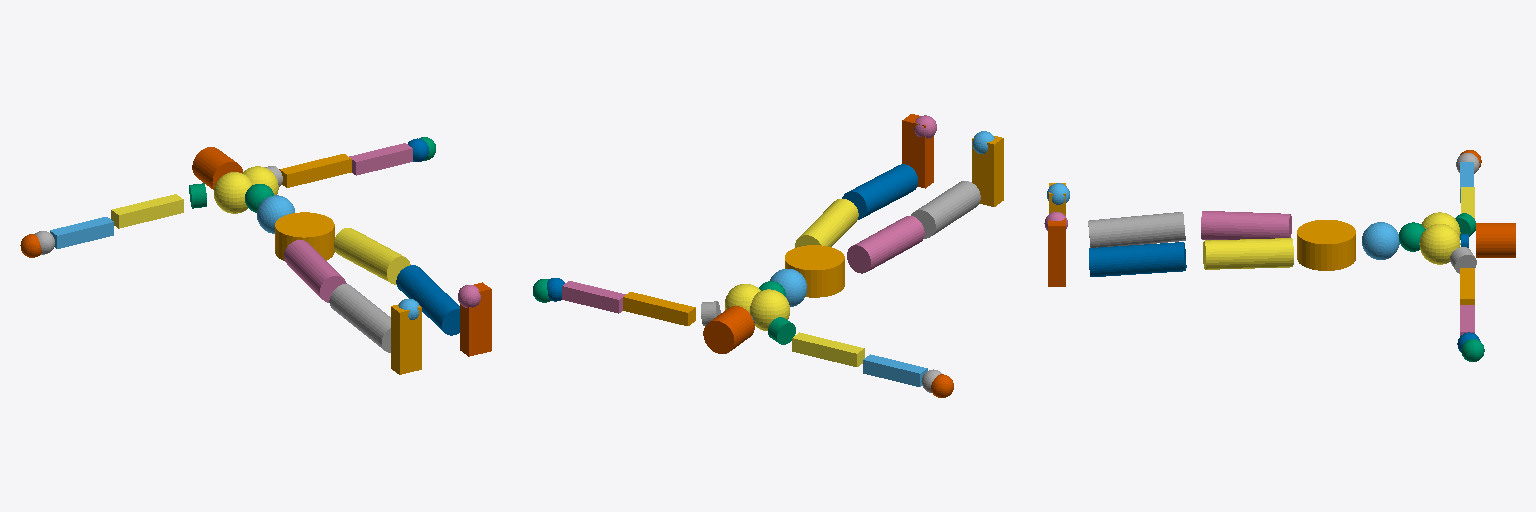
--- Facts derived from the render (not from the file) ---
Views: 3 orthographic renders of the robot side by side, from view 1: azimuth 30°, elevation 25°; view 2: azimuth 150°, elevation 25°; view 3: azimuth 270°, elevation 25°.
Robot: amass_male — 70 links, 69 joints (69 revolute); root link 00_root_Y; default pose: every joint at zero.
Visible links, largest first — view 1: 04_lknee_Y, 01_lhip_Y, 05_rknee_Y, 00_root_Y, 02_rhip_Y, 08_rankle_Y, 07_lankle_Y, 09_chest_Y, 17_rshoulder_Y, 16_lshoulder_Y, 18_lelbow_Y, 19_relbow_Y (+2 smaller); view 2: 02_rhip_Y, 00_root_Y, 04_lknee_Y, 05_rknee_Y, 09_chest_Y, 08_rankle_Y, 15_upperneck_Y, 01_lhip_Y, 07_lankle_Y, 16_lshoulder_Y, 17_rshoulder_Y, 18_lelbow_Y (+3 smaller); view 3: 04_lknee_Y, 05_rknee_Y, 00_root_Y, 01_lhip_Y, 02_rhip_Y, 09_chest_Y, 15_upperneck_Y, 07_lankle_Y, 03_lowerback_Y, 06_upperback_Y, 16_lshoulder_Y.
Boxes of the visible links, x1=… form: 04_lknee_Y: x1=396, y1=265, x2=459, y2=335; 01_lhip_Y: x1=334, y1=228, x2=410, y2=284; 05_rknee_Y: x1=329, y1=284, x2=390, y2=352; 00_root_Y: x1=275, y1=212, x2=334, y2=260; 02_rhip_Y: x1=284, y1=240, x2=346, y2=302; 08_rankle_Y: x1=391, y1=304, x2=421, y2=374; 07_lankle_Y: x1=460, y1=282, x2=491, y2=356; 09_chest_Y: x1=214, y1=166, x2=278, y2=213; 17_rshoulder_Y: x1=111, y1=194, x2=183, y2=228; 16_lshoulder_Y: x1=279, y1=154, x2=351, y2=187; 18_lelbow_Y: x1=349, y1=143, x2=412, y2=175; 19_relbow_Y: x1=50, y1=217, x2=113, y2=248; 02_rhip_Y: x1=847, y1=216, x2=924, y2=273; 00_root_Y: x1=785, y1=245, x2=844, y2=297; 04_lknee_Y: x1=842, y1=164, x2=917, y2=219; 05_rknee_Y: x1=911, y1=181, x2=980, y2=238; 09_chest_Y: x1=725, y1=284, x2=789, y2=330; 08_rankle_Y: x1=972, y1=136, x2=1003, y2=206; 15_upperneck_Y: x1=703, y1=306, x2=754, y2=353; 01_lhip_Y: x1=795, y1=199, x2=858, y2=247; 07_lankle_Y: x1=902, y1=114, x2=933, y2=188; 16_lshoulder_Y: x1=623, y1=292, x2=695, y2=325; 17_rshoulder_Y: x1=792, y1=332, x2=864, y2=366; 18_lelbow_Y: x1=562, y1=281, x2=625, y2=313; 04_lknee_Y: x1=1089, y1=242, x2=1186, y2=276; 05_rknee_Y: x1=1088, y1=212, x2=1185, y2=247; 00_root_Y: x1=1297, y1=220, x2=1355, y2=270; 01_lhip_Y: x1=1203, y1=238, x2=1293, y2=269; 02_rhip_Y: x1=1201, y1=211, x2=1291, y2=239; 09_chest_Y: x1=1419, y1=212, x2=1460, y2=264; 15_upperneck_Y: x1=1476, y1=223, x2=1515, y2=257; 07_lankle_Y: x1=1048, y1=215, x2=1065, y2=286; 03_lowerback_Y: x1=1362, y1=222, x2=1399, y2=259; 06_upperback_Y: x1=1399, y1=222, x2=1425, y2=251; 16_lshoulder_Y: x1=1460, y1=268, x2=1474, y2=304.
Bounding box of the posed robot: 1.6 × 1.6 × 0.2569 m (x, y, z).
Geometry: primitives only (box / cylinder / sphere), no mesh files.

URDF robot description (amass_male):
<?xml version="1.0"?>
  <!-- Copyright (c) Facebook, Inc. and its affiliates. -->
  <!-- Adapted for compatibility with lab4d -->
  <robot name="amass_male">

    <material name="link_mtl1">
      <color rgba="0.33333333 0.62745098 0.67843137 1."/>
    </material>
    <material name="link_mtl2">
      <color rgba="0.33333333 0.62745098 0.67843137 1."/>
    </material>

    <link name="00_root_Y">
      <inertial>
        <origin xyz="0 0 0" rpy="0 0 0"/>
        <mass value="5.0"/>
        <inertia ixx="0.001" ixy="0" ixz="0" iyy="0.001" iyz="0" izz="0.001"/>
      </inertial>
      <collision name="collision_0_root_Y">
        <origin xyz="0.00354 -0.01 -0.03107" rpy="0 0 0"/>
        <geometry>
          <cylinder radius="0.1" length="0.1"/>
        </geometry>
      </collision>
      <!--
      <collision name="collision_1_root_Y">
        <origin xyz="-0.05769 -0.02577 -0.0174" rpy="0 0 0"/>
        <geometry>
          <sphere radius="0.075"/>
        </geometry>
      </collision>
      <collision name="collision_2_root_Y">
        <origin xyz="0.06735 -0.02415 -0.0174" rpy="0 0 0"/>
        <geometry>
          <sphere radius="0.075"/>
        </geometry>
      </collision>
      -->
      <visual name="collision_0_root_Y">
        <origin xyz="0.00354 -0.01 -0.03107" rpy="0 0 0"/>
        <geometry>
          <cylinder radius="0.1" length="0.1"/>
        </geometry>
      </visual>
      <!--
      <visual name="collision_1_root_Y">
        <origin xyz="-0.05769 -0.02577 -0.0174" rpy="0 0 0"/>
        <geometry>
          <sphere radius="0.075"/>
        </geometry>
      </visual>
      <visual name="collision_2_root_Y">
        <origin xyz="0.06735 -0.02415 -0.0174" rpy="0 0 0"/>
        <geometry>
          <sphere radius="0.075"/>
        </geometry>
      </visual>
      -->
    </link>

    <link name="01_lhip_R">
      <inertial>
        <origin xyz="0 0 0" rpy="0 0 0"/>
        <mass value="1.0"/>
        <inertia ixx="0.001" ixy="0" ixz="0" iyy="0.001" iyz="0" izz="0.001"/>
      </inertial>
      <collision name="collision_0_lhip_R">
        <geometry>
          <sphere radius="0.01"/>
        </geometry>
        <origin xyz="0 0 0" rpy="0 0 0"/>
      </collision>
    </link>

    <link name="01_lhip_P">
      <inertial>
        <origin xyz="0 0 0" rpy="0 0 0"/>
        <mass value="1.0"/>
        <inertia ixx="0.001" ixy="0" ixz="0" iyy="0.001" iyz="0" izz="0.001"/>
      </inertial>
      <collision name="collision_0_lhip_P">
        <geometry>
          <sphere radius="0.01"/>
        </geometry>
        <origin xyz="0 0 0" rpy="0 0 0"/>
      </collision>
    </link>

    <link name="01_lhip_Y">
      <inertial>
        <origin xyz="0.02173 -0.19323 0.00402" rpy="0 0 0"/>
        <mass value="5.0"/>
        <inertia ixx="0.001" ixy="0" ixz="0" iyy="0.001" iyz="0" izz="0.001"/>
      </inertial>
      <collision name="collision_0_lhip_Y">
        <origin xyz="0.02173 -0.19323 0.00402" rpy="1.55 0.11194 0.10964"/>
        <geometry>
          <cylinder radius="0.05" length="0.3"/>
        </geometry>
      </collision>
      <visual name="collision_0_lhip_Y">
        <origin xyz="0.02173 -0.19323 0.00402" rpy="1.55 0.11194 0.10964"/>
        <geometry>
          <cylinder radius="0.05" length="0.3"/>
        </geometry>
      </visual>
      <!--
      <visual name="joint">
        <origin xyz="0 0 0" rpy="0 0 0"/>
        <geometry>
          <sphere radius="0.04"/>
        </geometry>
      </visual>
      -->
    </link>

    <link name="02_rhip_R">
      <inertial>
        <origin xyz="0 0 0" rpy="0 0 0"/>
        <mass value="1.0"/>
        <inertia ixx="0.001" ixy="0" ixz="0" iyy="0.001" iyz="0" izz="0.001"/>
      </inertial>
      <collision name="collision_0_rhip_R">
        <geometry>
          <sphere radius="0.01"/>
        </geometry>
        <origin xyz="0 0 0" rpy="0 0 0"/>
      </collision>
    </link>

    <link name="02_rhip_P">
      <inertial>
        <origin xyz="0 0 0" rpy="0 0 0"/>
        <mass value="1.0"/>
        <inertia ixx="0.001" ixy="0" ixz="0" iyy="0.001" iyz="0" izz="0.001"/>
      </inertial>
      <collision name="collision_0_rhip_P">
        <geometry>
          <sphere radius="0.01"/>
        </geometry>
        <origin xyz="0 0 0" rpy="0 0 0"/>
      </collision>
    </link>

    <link name="02_rhip_Y">
      <inertial>
        <origin xyz="-0.02163 -0.19184 -0.00242" rpy="0 0 0"/>
        <mass value="5.0"/>
        <inertia ixx="0.001" ixy="0" ixz="0" iyy="0.001" iyz="0" izz="0.001"/>
      </inertial>
      <collision name="collision_0_rhip_Y">
        <origin xyz="-0.02163 -0.19184 -0.00242" rpy="1.58342 -0.11226 -0.11368"/>
        <geometry>
          <cylinder radius="0.05" length="0.3"/>
        </geometry>
      </collision>
      <visual name="collision_0_rhip_Y">
        <origin xyz="-0.02163 -0.19184 -0.00242" rpy="1.58342 -0.11226 -0.11368"/>
        <geometry>
          <cylinder radius="0.05" length="0.3"/>
        </geometry>
      </visual>
      <!--
      <visual name="joint">
        <origin xyz="0 0 0" rpy="0 0 0"/>
        <geometry>
          <sphere radius="0.04"/>
        </geometry>
      </visual>
      -->
    </link>

    <link name="03_lowerback_R">
      <inertial>
        <origin xyz="0 0 0" rpy="0 0 0"/>
        <mass value="1.0"/>
        <inertia ixx="0.001" ixy="0" ixz="0" iyy="0.001" iyz="0" izz="0.001"/>
      </inertial>
      <collision name="collision_0_lowerback_R">
        <geometry>
          <sphere radius="0.01"/>
        </geometry>
        <origin xyz="0 0 0" rpy="0 0 0"/>
      </collision>
    </link>

    <link name="03_lowerback_P">
      <inertial>
        <origin xyz="0 0 0" rpy="0 0 0"/>
        <mass value="1.0"/>
        <inertia ixx="0.001" ixy="0" ixz="0" iyy="0.001" iyz="0" izz="0.001"/>
      </inertial>
      <collision name="collision_0_lowerback_P">
        <geometry>
          <sphere radius="0.01"/>
        </geometry>
        <origin xyz="0 0 0" rpy="0 0 0"/>
      </collision>
    </link>

    <link name="03_lowerback_Y">
      <inertial>
        <origin xyz="0.0 0.05 0.013" rpy="0 0 0"/>
        <mass value="5.0"/>
        <inertia ixx="0.001" ixy="0" ixz="0" iyy="0.001" iyz="0" izz="0.001"/>
      </inertial>
      <collision name="collision_0_lowerback_Y">
        <origin xyz="0.0 0.05 0.013" rpy="0 1.5708 0"/>
        <geometry>
          <sphere radius="0.065"/>
        </geometry>
      </collision>
      <visual name="collision_0_lowerback_Y">
        <origin xyz="0.0 0.05 0.013" rpy="0 1.5708 0"/>
        <geometry>
          <sphere radius="0.065"/>
        </geometry>
      </visual>
      <!--
      <visual name="joint">
        <origin xyz="0 0 0" rpy="0 0 0"/>
        <geometry>
          <sphere radius="0.03"/>
        </geometry>
      </visual>
      -->
    </link>

    <link name="04_lknee_R">
      <inertial>
        <origin xyz="0 0 0" rpy="0 0 0"/>
        <mass value="1.0"/>
        <inertia ixx="0.001" ixy="0" ixz="0" iyy="0.001" iyz="0" izz="0.001"/>
      </inertial>
      <collision name="collision_0_lknee_R">
        <geometry>
          <sphere radius="0.01"/>
        </geometry>
        <origin xyz="0 0 0" rpy="0 0 0"/>
      </collision>
    </link>

    <link name="04_lknee_P">
      <inertial>
        <origin xyz="0 0 0" rpy="0 0 0"/>
        <mass value="1.0"/>
        <inertia ixx="0.001" ixy="0" ixz="0" iyy="0.001" iyz="0" izz="0.001"/>
      </inertial>
      <collision name="collision_0_lknee_P">
        <geometry>
          <sphere radius="0.01"/>
        </geometry>
        <origin xyz="0 0 0" rpy="0 0 0"/>
      </collision>
    </link>

    <link name="04_lknee_Y">
      <inertial>
        <origin xyz="-0.00739 -0.21344 -0.01871" rpy="0 0 0"/>
        <mass value="3.0"/>
        <inertia ixx="0.001" ixy="0" ixz="0" iyy="0.001" iyz="0" izz="0.001"/>
      </inertial>
      <collision name="collision_0_lknee_Y">
        <origin xyz="-0.00739 -0.21344 -0.01871" rpy="1.65825 -0.0345 -0.03766"/>
        <geometry>
          <cylinder radius="0.05" length="0.325"/>
        </geometry>
      </collision>
      <visual name="collision_0_lknee_Y">
        <origin xyz="-0.00739 -0.21344 -0.01871" rpy="1.65825 -0.0345 -0.03766"/>
        <geometry>
          <cylinder radius="0.05" length="0.325"/>
        </geometry>
      </visual>
      <!--
      <visual name="joint">
        <origin xyz="0 0 0" rpy="0 0 0"/>
        <geometry>
          <sphere radius="0.04"/>
        </geometry>
      </visual>
      -->
    </link>

    <link name="05_rknee_R">
      <inertial>
        <origin xyz="0 0 0" rpy="0 0 0"/>
        <mass value="1.0"/>
        <inertia ixx="0.001" ixy="0" ixz="0" iyy="0.001" iyz="0" izz="0.001"/>
      </inertial>
      <collision name="collision_0_rknee_R">
        <geometry>
          <sphere radius="0.01"/>
        </geometry>
        <origin xyz="0 0 0" rpy="0 0 0"/>
      </collision>
    </link>

    <link name="05_rknee_P">
      <inertial>
        <origin xyz="0 0 0" rpy="0 0 0"/>
        <mass value="1.0"/>
        <inertia ixx="0.001" ixy="0" ixz="0" iyy="0.001" iyz="0" izz="0.001"/>
      </inertial>
      <collision name="collision_0_rknee_P">
        <geometry>
          <sphere radius="0.01"/>
        </geometry>
        <origin xyz="0 0 0" rpy="0 0 0"/>
      </collision>
    </link>

    <link name="05_rknee_Y">
      <inertial>
        <origin xyz="0.00953 -0.21002 -0.01728" rpy="0 0 0"/>
        <mass value="3.0"/>
        <inertia ixx="0.001" ixy="0" ixz="0" iyy="0.001" iyz="0" izz="0.001"/>
      </inertial>
      <collision name="collision_0_rknee_Y">
        <origin xyz="0.00953 -0.21002 -0.01728" rpy="1.65289 0.04518 0.04905"/>
        <geometry>
          <cylinder radius="0.05" length="0.325"/>
        </geometry>
      </collision>
      <visual name="collision_0_rknee_Y">
        <origin xyz="0.00953 -0.21002 -0.01728" rpy="1.65289 0.04518 0.04905"/>
        <geometry>
          <cylinder radius="0.05" length="0.325"/>
        </geometry>
      </visual>
      <!--
      <visual name="joint">
        <origin xyz="0 0 0" rpy="0 0 0"/>
        <geometry>
          <sphere radius="0.04"/>
        </geometry>
      </visual>
      -->
    </link>

    <link name="06_upperback_R">
      <inertial>
        <origin xyz="0 0 0" rpy="0 0 0"/>
        <mass value="1.0"/>
        <inertia ixx="0.001" ixy="0" ixz="0" iyy="0.001" iyz="0" izz="0.001"/>
      </inertial>
      <collision name="collision_0_upperback_R">
        <geometry>
          <sphere radius="0.01"/>
        </geometry>
        <origin xyz="0 0 0" rpy="0 0 0"/>
      </collision>
    </link>

    <link name="06_upperback_P">
      <inertial>
        <origin xyz="0 0 0" rpy="0 0 0"/>
        <mass value="1.0"/>
        <inertia ixx="0.001" ixy="0" ixz="0" iyy="0.001" iyz="0" izz="0.001"/>
      </inertial>
      <collision name="collision_0_upperback_P">
        <geometry>
          <sphere radius="0.01"/>
        </geometry>
        <origin xyz="0 0 0" rpy="0 0 0"/>
      </collision>
    </link>

    <link name="06_upperback_Y">
      <inertial>
        <origin xyz="0.0 0.02246 0.00143" rpy="0 0 0"/>
        <mass value="5.0"/>
        <inertia ixx="0.001" ixy="0" ixz="0" iyy="0.001" iyz="0" izz="0.001"/>
      </inertial>
      <collision name="collision_0_upperback_Y">
        <origin xyz="0.0 0.02246 0.00143" rpy="0 1.5708 0"/>
        <geometry>
          <sphere radius="0.05" length="0.125"/>
        </geometry>
      </collision>
      <visual name="collision_0_upperback_Y">
        <origin xyz="0.0 0.02246 0.00143" rpy="0 1.5708 0"/>
        <geometry>
          <sphere radius="0.05" length="0.125"/>
        </geometry>
      </visual>
      <!--
      <visual name="joint">
        <origin xyz="0 0 0" rpy="0 0 0"/>
        <geometry>
          <sphere radius="0.03"/>
        </geometry>
      </visual>
      -->
    </link>

    <link name="07_lankle_R">
      <inertial>
        <origin xyz="0 0 0" rpy="0 0 0"/>
        <mass value="1.0"/>
        <inertia ixx="0.001" ixy="0" ixz="0" iyy="0.001" iyz="0" izz="0.001"/>
      </inertial>
      <collision name="collision_0_lankle_R">
        <geometry>
          <sphere radius="0.01"/>
        </geometry>
        <origin xyz="0 0 0" rpy="0 0 0"/>
      </collision>
    </link>

    <link name="07_lankle_P">
      <inertial>
        <origin xyz="0 0 0" rpy="0 0 0"/>
        <mass value="1.0"/>
        <inertia ixx="0.001" ixy="0" ixz="0" iyy="0.001" iyz="0" izz="0.001"/>
      </inertial>
      <collision name="collision_0_lankle_P">
        <geometry>
          <sphere radius="0.01"/>
        </geometry>
        <origin xyz="0 0 0" rpy="0 0 0"/>
      </collision>
    </link>

    <link name="07_lankle_Y">
      <inertial>
        <origin xyz="0.01719 -0.06032 0.05617" rpy="0 0 0"/>
        <mass value="1.0"/>
        <inertia ixx="0.001" ixy="0" ixz="0" iyy="0.001" iyz="0" izz="0.001"/>
      </inertial>
      <collision name="collision_0_lankle_Y">
        <origin xyz="0.01719 -0.06032 0.05617" rpy="0 0 0"/>
        <geometry>
          <box size="0.0875 0.06 0.23"/>
        </geometry>
      </collision>
      <visual name="collision_0_lankle_Y">
        <origin xyz="0.01719 -0.06032 0.05617" rpy="0 0 0"/>
        <geometry>
          <box size="0.0875 0.06 0.23"/>
        </geometry>
      </visual>
      <!--
      <visual name="joint">
        <origin xyz="0 0 0" rpy="0 0 0"/>
        <geometry>
          <sphere radius="0.04"/>
        </geometry>
      </visual>
      -->
    </link>

    <link name="08_rankle_R">
      <inertial>
        <origin xyz="0 0 0" rpy="0 0 0"/>
        <mass value="1.0"/>
        <inertia ixx="0.001" ixy="0" ixz="0" iyy="0.001" iyz="0" izz="0.001"/>
      </inertial>
      <collision name="collision_rankle_R">
        <geometry>
          <sphere radius="0.01"/>
        </geometry>
        <origin xyz="0 0 0" rpy="0 0 0"/>
      </collision>
    </link>

    <link name="08_rankle_P">
      <inertial>
        <origin xyz="0 0 0" rpy="0 0 0"/>
        <mass value="1.0"/>
        <inertia ixx="0.001" ixy="0" ixz="0" iyy="0.001" iyz="0" izz="0.001"/>
      </inertial>
      <collision name="collision_rankle_P">
        <geometry>
          <sphere radius="0.01"/>
        </geometry>
        <origin xyz="0 0 0" rpy="0 0 0"/>
      </collision>
    </link>

    <link name="08_rankle_Y">
      <inertial>
        <origin xyz="-0.01719 -0.06032 0.05617" rpy="0 0 0"/>
        <mass value="1.0"/>
        <inertia ixx="0.001" ixy="0" ixz="0" iyy="0.001" iyz="0" izz="0.001"/>
      </inertial>
      <collision name="collision_0_rankle_Y">
        <origin xyz="-0.01719 -0.06032 0.05617" rpy="0 0 0"/>
        <geometry>
          <box size="0.0875 0.06 0.23"/>
        </geometry>
      </collision>
      <visual name="collision_0_rankle_Y">
        <origin xyz="-0.01719 -0.06032 0.05617" rpy="0 0 0"/>
        <geometry>
          <box size="0.0875 0.06 0.23"/>
        </geometry>
      </visual>
      <!--
      <visual name="joint">
        <origin xyz="0 0 0" rpy="0 0 0"/>
        <geometry>
          <sphere radius="0.04"/>
        </geometry>
      </visual>
      -->
    </link>

    <link name="09_chest_R">
      <inertial>
        <origin xyz="0 0 0" rpy="0 0 0"/>
        <mass value="1.0"/>
        <inertia ixx="0.001" ixy="0" ixz="0" iyy="0.001" iyz="0" izz="0.001"/>
      </inertial>
      <collision name="collision_0_chest_R">
        <geometry>
          <sphere radius="0.01"/>
        </geometry>
        <origin xyz="0 0 0" rpy="0 0 0"/>
      </collision>
    </link>

    <link name="09_chest_P">
      <inertial>
        <origin xyz="0 0 0" rpy="0 0 0"/>
        <mass value="1.0"/>
        <inertia ixx="0.001" ixy="0" ixz="0" iyy="0.001" iyz="0" izz="0.001"/>
      </inertial>
      <collision name="collision_0_chest_P">
        <geometry>
          <sphere radius="0.01"/>
        </geometry>
        <origin xyz="0 0 0" rpy="0 0 0"/>
      </collision>
    </link>

    <link name="09_chest_Y">
      <inertial>
        <origin xyz="0.0 0.057 -0.00687" rpy="0 0 0"/>
        <mass value="8.0"/>
        <inertia ixx="0.001" ixy="0" ixz="0" iyy="0.001" iyz="0" izz="0.001"/>
      </inertial>
      <collision name="collision_0_chest_Y">
        <origin xyz="-0.045 0.057 -0.00687" rpy="0 0 0"/>
        <geometry>
          <sphere radius="0.07"/>
        </geometry>
      </collision>
      <collision name="collision_1_chest_Y">
        <origin xyz="0.045 0.057 -0.00687" rpy="0 0 0"/>
        <geometry>
          <sphere radius="0.07"/>
        </geometry>
      </collision>
      <visual name="collision_0_chest_Y">
        <origin xyz="-0.045 0.057 -0.00687" rpy="0 0 0"/>
        <geometry>
          <sphere radius="0.07"/>
        </geometry>
      </visual>
      <visual name="collision_1_chest_Y">
        <origin xyz="0.045 0.057 -0.00687" rpy="0 0 0"/>
        <geometry>
          <sphere radius="0.07"/>
        </geometry>
      </visual>
      <!--
      <visual name="joint">
        <origin xyz="0 0 0" rpy="0 0 0"/>
        <geometry>
          <sphere radius="0.03"/>
        </geometry>
      </visual>
      -->
    </link>

    <link name="10_lfoot_R">
      <inertial>
        <origin xyz="0 0 0" rpy="0 0 0"/>
        <mass value="1.0"/>
        <inertia ixx="0.001" ixy="0" ixz="0" iyy="0.001" iyz="0" izz="0.001"/>
      </inertial>
      <collision name="collision_0_lfoot_R">
        <geometry>
          <sphere radius="0.01"/>
        </geometry>
        <origin xyz="0 0 0" rpy="0 0 0"/>
      </collision>
    </link>

    <link name="10_lfoot_P">
      <inertial>
        <origin xyz="0 0 0" rpy="0 0 0"/>
        <mass value="1.0"/>
        <inertia ixx="0.001" ixy="0" ixz="0" iyy="0.001" iyz="0" izz="0.001"/>
      </inertial>
      <collision name="collision_0_lfoot_P">
        <geometry>
          <sphere radius="0.01"/>
        </geometry>
        <origin xyz="0 0 0" rpy="0 0 0"/>
      </collision>
    </link>

    <link name="10_lfoot_Y">
      <inertial>
        <origin xyz="0 0 0.02228" rpy="0 0 0"/>
        <mass value="0.5"/>
        <inertia ixx="0.001" ixy="0" ixz="0" iyy="0.001" iyz="0" izz="0.001"/>
      </inertial>
      <collision name="collision_0_lfoot_Y">
        <origin xyz="0 0 0.02228" rpy="0 0 0"/>
        <geometry>
          <sphere radius="0.04"/>
        </geometry>
      </collision>
      <visual name="collision_0_lfoot_Y">
        <origin xyz="0 0 0.02228" rpy="0 0 0"/>
        <geometry>
          <sphere radius="0.04"/>
        </geometry>
      </visual>
      <!--
      <visual name="joint">
        <origin xyz="0 0 0" rpy="0 0 0"/>
        <geometry>
          <sphere radius="0.025"/>
        </geometry>
      </visual>
      -->
    </link>

    <link name="11_rfoot_R">
      <inertial>
        <origin xyz="0 0 0" rpy="0 0 0"/>
        <mass value="1.0"/>
        <inertia ixx="0.001" ixy="0" ixz="0" iyy="0.001" iyz="0" izz="0.001"/>
      </inertial>
      <collision name="collision_0_rfoot_R">
        <geometry>
          <sphere radius="0.01"/>
        </geometry>
        <origin xyz="0 0 0" rpy="0 0 0"/>
      </collision>
    </link>

    <link name="11_rfoot_P">
      <inertial>
        <origin xyz="0 0 0" rpy="0 0 0"/>
        <mass value="1.0"/>
        <inertia ixx="0.001" ixy="0" ixz="0" iyy="0.001" iyz="0" izz="0.001"/>
      </inertial>
      <collision name="collision_0_rfoot_P">
        <geometry>
          <sphere radius="0.01"/>
        </geometry>
        <origin xyz="0 0 0" rpy="0 0 0"/>
      </collision>
    </link>

    <link name="11_rfoot_Y">
      <inertial>
        <origin xyz="0 0 0.0239" rpy="0 0 0"/>
        <mass value="0.5"/>
        <inertia ixx="0.001" ixy="0" ixz="0" iyy="0.001" iyz="0" izz="0.001"/>
      </inertial>
      <collision name="collision_0_rfoot_Y">
        <origin xyz="0 0 0.0239" rpy="0 0 0"/>
        <geometry>
          <sphere radius="0.04"/>
        </geometry>
      </collision>
      <visual name="collision_0_rfoot_Y">
        <origin xyz="0 0 0.0239" rpy="0 0 0"/>
        <geometry>
          <sphere radius="0.04"/>
        </geometry>
      </visual>
      <!--
      <visual name="joint">
        <origin xyz="0 0 0" rpy="0 0 0"/>
        <geometry>
          <sphere radius="0.025"/>
        </geometry>
      </visual>
      -->
    </link>

    <link name="12_lowerneck_R">
      <inertial>
        <origin xyz="0 0 0" rpy="0 0 0"/>
        <mass value="1.0"/>
        <inertia ixx="0.001" ixy="0" ixz="0" iyy="0.001" iyz="0" izz="0.001"/>
      </inertial>
      <collision name="collision_0_lowerneck_R">
        <geometry>
          <sphere radius="0.01"/>
        </geometry>
        <origin xyz="0 0 0" rpy="0 0 0"/>
      </collision>
    </link>

    <link name="12_lowerneck_P">
      <inertial>
        <origin xyz="0 0 0" rpy="0 0 0"/>
        <mass value="1.0"/>
        <inertia ixx="0.001" ixy="0" ixz="0" iyy="0.001" iyz="0" izz="0.001"/>
      </inertial>
      <collision name="collision_0_lowerneck_P">
        <geometry>
          <sphere radius="0.01"/>
        </geometry>
        <origin xyz="0 0 0" rpy="0 0 0"/>
      </collision>
    </link>

    <link name="12_lowerneck_Y">
      <inertial>
        <origin xyz="0.0 -0.01296 0.01" rpy="0 0 0"/>
        <mass value="0.5"/>
        <inertia ixx="0.001" ixy="0" ixz="0" iyy="0.001" iyz="0" izz="0.001"/>
      </inertial>
      <collision name="collision_0_lowerneck_Y">
        <origin xyz="0.0 -0.01296 0.01" rpy="1.5708 0 0"/>
        <geometry>
          <cylinder radius="0.030" length="0.0273"/>
        </geometry>
      </collision>
      <visual name="collision_0_lowerneck_Y">
        <origin xyz="0.0 -0.01296 0.01" rpy="1.5708 0 0"/>
        <geometry>
          <cylinder radius="0.030" length="0.0273"/>
        </geometry>
      </visual>
    </link>

    <link name="13_lclavicle_R">
      <inertial>
        <origin xyz="0 0 0" rpy="0 0 0"/>
        <mass value="1.0"/>
        <inertia ixx="0.001" ixy="0" ixz="0" iyy="0.001" iyz="0" izz="0.001"/>
      </inertial>
      <collision name="collision_0_lclavicle_R">
        <geometry>
          <sphere radius="0.01"/>
        </geometry>
        <origin xyz="0 0 0" rpy="0 0 0"/>
      </collision>
    </link>

    <link name="13_lclavicle_P">
      <inertial>
        <origin xyz="0 0 0" rpy="0 0 0"/>
        <mass value="1.0"/>
        <inertia ixx="0.001" ixy="0" ixz="0" iyy="0.001" iyz="0" izz="0.001"/>
      </inertial>
      <collision name="collision_0_lclavicle_P">
        <geometry>
          <sphere radius="0.01"/>
        </geometry>
        <origin xyz="0 0 0" rpy="0 0 0"/>
      </collision>
    </link>

    <link name="13_lclavicle_Y">
      <inertial>
        <origin xyz="0.06146 0.0226 -0.00952" rpy="0 0 0"/>
        <mass value="1.0"/>
        <inertia ixx="0.001" ixy="0" ixz="0" iyy="0.001" iyz="0" izz="0.001"/>
      </inertial>
      <collision name="collision_0_lclavicle_Y">
        <origin xyz="0.06146 0.0226 -0.00952" rpy="1.17204 1.95049 1.5502"/>
        <geometry>
          <cylinder radius="0.04" length="0.05"/>
        </geometry>
      </collision>
      <visual name="collision_0_lclavicle_Y">
        <origin xyz="0.06146 0.0226 -0.00952" rpy="1.17204 1.95049 1.5502"/>
        <geometry>
          <cylinder radius="0.04" length="0.05"/>
        </geometry>
      </visual>
      <!--
      <visual name="joint">
        <origin xyz="0 0 0" rpy="0 0 0"/>
        <geometry>
          <sphere radius="0.025"/>
        </geometry>
      </visual>
      -->
    </link>

    <link name="14_rclavicle_R">
      <inertial>
        <origin xyz="0 0 0" rpy="0 0 0"/>
        <mass value="1.0"/>
        <inertia ixx="0.001" ixy="0" ixz="0" iyy="0.001" iyz="0" izz="0.001"/>
      </inertial>
      <collision name="collision_0_rclavicle_R">
        <geometry>
          <sphere radius="0.01"/>
        </geometry>
        <origin xyz="0 0 0" rpy="0 0 0"/>
      </collision>
    </link>

    <link name="14_rclavicle_P">
      <inertial>
        <origin xyz="0 0 0" rpy="0 0 0"/>
        <mass value="1.0"/>
        <inertia ixx="0.001" ixy="0" ixz="0" iyy="0.001" iyz="0" izz="0.001"/>
      </inertial>
      <collision name="collision_0_rclavicle_P">
        <geometry>
          <sphere radius="0.01"/>
        </geometry>
        <origin xyz="0 0 0" rpy="0 0 0"/>
      </collision>
    </link>

    <link name="14_rclavicle_Y">
      <inertial>
        <origin xyz="-0.05661 0.02343 -0.00424" rpy="0 0 0"/>
        <mass value="1.0"/>
        <inertia ixx="0.001" ixy="0" ixz="0" iyy="0.001" iyz="0" izz="0.001"/>
      </inertial>
      <collision name="collision_0_rclavicle_Y">
        <origin xyz="-0.05661 0.02343 -0.00424" rpy="-1.74968 -1.17274 1.34362"/>
        <geometry>
          <cylinder radius="0.04" length="0.05"/>
        </geometry>
      </collision>
      <visual name="collision_0_rclavicle_Y">
        <origin xyz="-0.05661 0.02343 -0.00424" rpy="-1.74968 -1.17274 1.34362"/>
        <geometry>
          <cylinder radius="0.04" length="0.05"/>
        </geometry>
      </visual>
      <!--
      <visual name="joint">
        <origin xyz="0 0 0" rpy="0 0 0"/>
        <geometry>
          <sphere radius="0.025"/>
        </geometry>
      </visual>
      -->
    </link>

    <link name="15_upperneck_R">
      <inertial>
        <origin xyz="0 0 0" rpy="0 0 0"/>
        <mass value="1.0"/>
        <inertia ixx="0.001" ixy="0" ixz="0" iyy="0.001" iyz="0" izz="0.001"/>
      </inertial>
      <collision name="collision_0_upperneck_R">
        <geometry>
          <sphere radius="0.01"/>
        </geometry>
        <origin xyz="0 0 0" rpy="0 0 0"/>
      </collision>
    </link>

    <link name="15_upperneck_P">
      <inertial>
        <origin xyz="0 0 0" rpy="0 0 0"/>
        <mass value="1.0"/>
        <inertia ixx="0.001" ixy="0" ixz="0" iyy="0.001" iyz="0" izz="0.001"/>
      </inertial>
      <collision name="collision_0_upperneck_P">
        <geometry>
          <sphere radius="0.01"/>
        </geometry>
        <origin xyz="0 0 0" rpy="0 0 0"/>
      </collision>
    </link>

    <link name="15_upperneck_Y">
      <inertial>
        <origin xyz="0 0 0" rpy="0 0 0"/>
        <mass value="3.0"/>
        <inertia ixx="0.001" ixy="0" ixz="0" iyy="0.001" iyz="0" izz="0.001"/>
      </inertial>
      <collision name="collision_0_upperneck_Y">
        <origin xyz="0 0.0020 0" rpy="1.5708 0 0"/>
        <geometry>
          <cylinder radius="0.06" length="0.135"/>
        </geometry>
      </collision>
      <visual name="collision_0_upperneck_Y">
        <origin xyz="0 0.0020 0" rpy="1.5708 0 0"/>
        <geometry>
          <cylinder radius="0.06" length="0.135"/>
        </geometry>
      </visual>
    </link>

    <link name="16_lshoulder_R">
      <inertial>
        <origin xyz="0 0 0" rpy="0 0 0"/>
        <mass value="1.0"/>
        <inertia ixx="0.001" ixy="0" ixz="0" iyy="0.001" iyz="0" izz="0.001"/>
      </inertial>
      <collision name="collision_0_lshoulder_R">
        <geometry>
          <sphere radius="0.01"/>
        </geometry>
        <origin xyz="0 0 0" rpy="0 0 0"/>
      </collision>
    </link>

    <link name="16_lshoulder_P">
      <inertial>
        <origin xyz="0 0 0" rpy="0 0 0"/>
        <mass value="1.0"/>
        <inertia ixx="0.001" ixy="0" ixz="0" iyy="0.001" iyz="0" izz="0.001"/>
      </inertial>
      <collision name="collision_0_lshoulder_P">
        <geometry>
          <sphere radius="0.01"/>
        </geometry>
        <origin xyz="0 0 0" rpy="0 0 0"/>
      </collision>
    </link>

    <link name="16_lshoulder_Y">
      <inertial>
        <origin xyz="0.12767 -0.00782 -0.01147" rpy="0 0 0"/>
        <mass value="2.0"/>
        <inertia ixx="0.001" ixy="0" ixz="0" iyy="0.001" iyz="0" izz="0.001"/>
      </inertial>
      <collision name="collision_0_lshoulder_Y">
        <origin xyz="0.12767 -0.00782 -0.01147" rpy="0.0 0.0 0.0"/>
        <geometry>
          <box size="0.25 0.05 0.05"/>
        </geometry>
      </collision>
      <visual name="collision_0_lshoulder_Y">
        <origin xyz="0.12767 -0.00782 -0.01147" rpy="0.0 0.0 0.0"/>
        <geometry>
          <box size="0.25 0.05 0.05"/>
        </geometry>
      </visual>
      <!--
      <visual name="joint">
        <origin xyz="0 0 0" rpy="0 0 0"/>
        <geometry>
          <sphere radius="0.025"/>
        </geometry>
      </visual>
      -->
    </link>

    <link name="17_rshoulder_R">
      <inertial>
        <origin xyz="0 0 0" rpy="0 0 0"/>
        <mass value="1.0"/>
        <inertia ixx="0.001" ixy="0" ixz="0" iyy="0.001" iyz="0" izz="0.001"/>
      </inertial>
      <collision name="collision_0_rshoulder_R">
        <geometry>
          <sphere radius="0.01"/>
        </geometry>
        <origin xyz="0 0 0" rpy="0 0 0"/>
      </collision>
    </link>

    <link name="17_rshoulder_P">
      <inertial>
        <origin xyz="0 0 0" rpy="0 0 0"/>
        <mass value="1.0"/>
        <inertia ixx="0.001" ixy="0" ixz="0" iyy="0.001" iyz="0" izz="0.001"/>
      </inertial>
      <collision name="collision_0_rshoulder_P">
        <geometry>
          <sphere radius="0.01"/>
        </geometry>
        <origin xyz="0 0 0" rpy="0 0 0"/>
      </collision>
    </link>

    <link name="17_rshoulder_Y">
      <inertial>
        <origin xyz="-0.13006 -0.00718 -0.01563" rpy="0 0 0"/>
        <mass value="2.0"/>
        <inertia ixx="0.001" ixy="0" ixz="0" iyy="0.001" iyz="0" izz="0.001"/>
      </inertial>
      <collision name="collision_0_rshoulder_Y">
        <origin xyz="-0.13006 -0.00718 -0.01563" rpy="0 0 0"/>
        <geometry>
          <box size="0.25 0.05 0.05"/>
        </geometry>
      </collision>
      <visual name="collision_0_rshoulder_Y">
        <origin xyz="-0.13006 -0.00718 -0.01563" rpy="0 0 0"/>
        <geometry>
          <box size="0.25 0.05 0.05"/>
        </geometry>
      </visual>
      <!--
      <visual name="joint">
        <origin xyz="0 0 0" rpy="0 0 0"/>
        <geometry>
          <sphere radius="0.025"/>
        </geometry>
      </visual>
      -->
    </link>

    <link name="18_lelbow_R">
      <inertial>
        <origin xyz="0 0 0" rpy="0 0 0"/>
        <mass value="1.0"/>
        <inertia ixx="0.001" ixy="0" ixz="0" iyy="0.001" iyz="0" izz="0.001"/>
      </inertial>
      <collision name="collision_0_lelbow_R">
        <geometry>
          <sphere radius="0.01"/>
        </geometry>
        <origin xyz="0 0 0" rpy="0 0 0"/>
      </collision>
    </link>

    <link name="18_lelbow_P">
      <inertial>
        <origin xyz="0 0 0" rpy="0 0 0"/>
        <mass value="1.0"/>
        <inertia ixx="0.001" ixy="0" ixz="0" iyy="0.001" iyz="0" izz="0.001"/>
      </inertial>
      <collision name="collision_0_elbow_P">
        <geometry>
          <sphere radius="0.01"/>
        </geometry>
        <origin xyz="0 0 0" rpy="0 0 0"/>
      </collision>
    </link>

    <link name="18_lelbow_Y">
      <inertial>
        <origin xyz="0.12285 0.00635 -0.00369" rpy="0 0 0"/>
        <mass value="1.0"/>
        <inertia ixx="0.001" ixy="0" ixz="0" iyy="0.001" iyz="0" izz="0.001"/>
      </inertial>
      <collision name="collision_0_lelbow_Y">
        <origin xyz="0.12285 0.00635 -0.00369" rpy="0 0 0"/>
        <geometry>
          <box size="0.22 0.05 0.05"/>
        </geometry>
      </collision>
      <visual name="collision_0_lelbow_Y">
        <origin xyz="0.12285 0.00635 -0.00369" rpy="0 0 0"/>
        <geometry>
          <box size="0.22 0.05 0.05"/>
        </geometry>
      </visual>
      <!--
      <visual name="joint">
        <origin xyz="0 0 0" rpy="0 0 0"/>
        <geometry>
          <sphere radius="0.025"/>
        </geometry>
      </visual>
      -->
    </link>

    <link name="19_relbow_R">
      <inertial>
        <origin xyz="0 0 0" rpy="0 0 0"/>
        <mass value="1.0"/>
        <inertia ixx="0.001" ixy="0" ixz="0" iyy="0.001" iyz="0" izz="0.001"/>
      </inertial>
      <collision name="collision_0_relbow_R">
        <geometry>
          <sphere radius="0.01"/>
        </geometry>
        <origin xyz="0 0 0" rpy="0 0 0"/>
      </collision>
    </link>

    <link name="19_relbow_P">
      <inertial>
        <origin xyz="0 0 0" rpy="0 0 0"/>
        <mass value="1.0"/>
        <inertia ixx="0.001" ixy="0" ixz="0" iyy="0.001" iyz="0" izz="0.001"/>
      </inertial>
      <collision name="collision_0_relbow_P">
        <geometry>
          <sphere radius="0.01"/>
        </geometry>
        <origin xyz="0 0 0" rpy="0 0 0"/>
      </collision>
    </link>

    <link name="19_relbow_Y">
      <inertial>
        <origin xyz="-0.12455 0.0034 -0.00301" rpy="0 0 0"/>
        <mass value="1.0"/>
        <inertia ixx="0.001" ixy="0" ixz="0" iyy="0.001" iyz="0" izz="0.001"/>
      </inertial>
      <collision name="collision_0_relbow_Y">
        <origin xyz="-0.12455 0.0034 -0.00301" rpy="0 0 0"/>
        <geometry>
          <box size="0.22 0.05 0.05"/>
        </geometry>
      </collision>
      <visual name="collision_0_relbow_Y">
        <origin xyz="-0.12455 0.0034 -0.00301" rpy="0 0 0"/>
        <geometry>
          <box size="0.22 0.05 0.05"/>
        </geometry>
      </visual>
      <!--
      <visual name="joint">
        <origin xyz="0 0 0" rpy="0 0 0"/>
        <geometry>
          <sphere radius="0.025"/>
        </geometry>
      </visual>
      -->
    </link>

    <link name="20_lwrist_R">
      <inertial>
        <origin xyz="0 0 0" rpy="0 0 0"/>
        <mass value="1.0"/>
        <inertia ixx="0.001" ixy="0" ixz="0" iyy="0.001" iyz="0" izz="0.001"/>
      </inertial>
      <collision name="collision_0_lwrist_R">
        <geometry>
          <sphere radius="0.01"/>
        </geometry>
        <origin xyz="0 0 0" rpy="0 0 0"/>
      </collision>
    </link>

    <link name="20_lwrist_P">
      <inertial>
        <origin xyz="0 0 0" rpy="0 0 0"/>
        <mass value="1.0"/>
        <inertia ixx="0.001" ixy="0" ixz="0" iyy="0.001" iyz="0" izz="0.001"/>
      </inertial>
      <collision name="collision_0_lwrist_P">
        <geometry>
          <sphere radius="0.01"/>
        </geometry>
        <origin xyz="0 0 0" rpy="0 0 0"/>
      </collision>
    </link>

    <link name="20_lwrist_Y">
      <inertial>
        <origin xyz="0.02228 0 0" rpy="0 0 0"/>
        <mass value="0.5"/>
        <inertia ixx="0.001" ixy="0" ixz="0" iyy="0.001" iyz="0" izz="0.001"/>
      </inertial>
      <collision name="collision_0_lwrist_Y">
        <origin xyz="0.02228 0 0" rpy="0 0 0"/>
        <geometry>
          <sphere radius="0.04"/>
        </geometry>
      </collision>
      <visual name="collision_0_lwrist_Y">
        <origin xyz="0.02228 0 0" rpy="0 0 0"/>
        <geometry>
          <sphere radius="0.04"/>
        </geometry>
      </visual>
      <!--
      <visual name="joint">
        <origin xyz="0 0 0" rpy="0 0 0"/>
        <geometry>
          <sphere radius="0.025"/>
        </geometry>
      </visual>
      -->
    </link>

    <link name="21_rwrist_R">
      <inertial>
        <origin xyz="0 0 0" rpy="0 0 0"/>
        <mass value="1.0"/>
        <inertia ixx="0.001" ixy="0" ixz="0" iyy="0.001" iyz="0" izz="0.001"/>
      </inertial>
      <collision name="collision_0_rwrist_R">
        <geometry>
          <sphere radius="0.01"/>
        </geometry>
        <origin xyz="0 0 0" rpy="0 0 0"/>
      </collision>
    </link>

    <link name="21_rwrist_P">
      <inertial>
        <origin xyz="0 0 0" rpy="0 0 0"/>
        <mass value="1.0"/>
        <inertia ixx="0.001" ixy="0" ixz="0" iyy="0.001" iyz="0" izz="0.001"/>
      </inertial>
      <collision name="collision_0_rwrist_P">
        <geometry>
          <sphere radius="0.01"/>
        </geometry>
        <origin xyz="0 0 0" rpy="0 0 0"/>
      </collision>
    </link>

    <link name="21_rwrist_Y">
      <inertial>
        <origin xyz="-0.0239 0 0" rpy="0 0 0"/>
        <mass value="0.5"/>
        <inertia ixx="0.001" ixy="0" ixz="0" iyy="0.001" iyz="0" izz="0.001"/>
      </inertial>
      <collision name="collision_0_rwrist_Y">
        <origin xyz="-0.0239 0 0" rpy="0 0 0"/>
        <geometry>
          <sphere radius="0.04"/>
        </geometry>
      </collision>
      <visual name="collision_0_rwrist_Y">
        <origin xyz="-0.0239 0 0" rpy="0 0 0"/>
        <geometry>
          <sphere radius="0.04"/>
        </geometry>
      </visual>
      <!--
      <visual name="joint">
        <origin xyz="0 0 0" rpy="0 0 0"/>
        <geometry>
          <sphere radius="0.025"/>
        </geometry>
      </visual>
      -->
    </link>

    <link name="22_lthumb_R">
      <inertial>
        <origin xyz="0 0 0" rpy="0 0 0"/>
        <mass value="1.0"/>
        <inertia ixx="0.001" ixy="0" ixz="0" iyy="0.001" iyz="0" izz="0.001"/>
      </inertial>
      <collision name="collision_0_lthumb_R">
        <geometry>
          <sphere radius="0.01"/>
        </geometry>
        <origin xyz="0 0 0" rpy="0 0 0"/>
      </collision>
    </link>

    <link name="22_lthumb_P">
      <inertial>
        <origin xyz="0 0 0" rpy="0 0 0"/>
        <mass value="1.0"/>
        <inertia ixx="0.001" ixy="0" ixz="0" iyy="0.001" iyz="0" izz="0.001"/>
      </inertial>
      <collision name="collision_0_lthumb_P">
        <geometry>
          <sphere radius="0.01"/>
        </geometry>
        <origin xyz="0 0 0" rpy="0 0 0"/>
      </collision>
    </link>

    <link name="22_lthumb_Y">
      <inertial>
        <origin xyz="0.01114 0 0" rpy="0 0 0"/>
        <mass value="0.5"/>
        <inertia ixx="0.001" ixy="0" ixz="0" iyy="0.001" iyz="0" izz="0.001"/>
      </inertial>
      <collision name="collision_0_lthumb_Y">
        <origin xyz="0.01114 0 0" rpy="0 0 0"/>
        <geometry>
          <sphere radius="0.04"/>
        </geometry>
      </collision>
      <visual name="collision_0_lthumb_Y">
        <origin xyz="0.01114 0 0" rpy="0 0 0"/>
        <geometry>
          <sphere radius="0.04"/>
        </geometry>
      </visual>
      <!--
      <visual name="joint">
        <origin xyz="0 0 0" rpy="0 0 0"/>
        <geometry>
          <sphere radius="0.025"/>
        </geometry>
      </visual>
      -->
    </link>

    <link name="23_rthumb_R">
      <inertial>
        <origin xyz="0 0 0" rpy="0 0 0"/>
        <mass value="1.0"/>
        <inertia ixx="0.001" ixy="0" ixz="0" iyy="0.001" iyz="0" izz="0.001"/>
      </inertial>
      <collision name="collision_0_rthumb_R">
        <geometry>
          <sphere radius="0.01"/>
        </geometry>
        <origin xyz="0 0 0" rpy="0 0 0"/>
      </collision>
    </link>

    <link name="23_rthumb_P">
      <inertial>
        <origin xyz="0 0 0" rpy="0 0 0"/>
        <mass value="1.0"/>
        <inertia ixx="0.001" ixy="0" ixz="0" iyy="0.001" iyz="0" izz="0.001"/>
      </inertial>
      <collision name="collision_0_rthumb_P">
        <geometry>
          <sphere radius="0.01"/>
        </geometry>
        <origin xyz="0 0 0" rpy="0 0 0"/>
      </collision>
    </link>

    <link name="23_rthumb_Y">
      <inertial>
        <origin xyz="-0.01195 0 0" rpy="0 0 0"/>
        <mass value="0.5"/>
        <inertia ixx="0.001" ixy="0" ixz="0" iyy="0.001" iyz="0" izz="0.001"/>
      </inertial>
      <collision name="collision_0_rthumb_Y">
        <origin xyz="-0.01195 0 0" rpy="0 0 0"/>
        <geometry>
          <sphere radius="0.04"/>
        </geometry>
      </collision>
      <visual name="collision_0_rthumb_Y">
        <origin xyz="-0.01195 0 0" rpy="0 0 0"/>
        <geometry>
          <sphere radius="0.04"/>
        </geometry>
      </visual>
      <!--
      <visual name="joint">
        <origin xyz="0 0 0" rpy="0 0 0"/>
        <geometry>
          <sphere radius="0.025"/>
        </geometry>
      </visual>
      -->
    </link>

    <joint name="01_lhip_R" type="revolute">
      <limit effort="100" velocity="3" lower="-1.5707963267948966" upper="1.5707963267948966"/>
      <origin xyz="0.08858 -0.08228 -0.01766" rpy="0 0 0"/>
      <parent link="00_root_Y"/>
      <child link="01_lhip_R"/>
      <axis xyz="1 0 0"/>
    </joint>

    <joint name="01_lhip_P" type="revolute">
      <limit effort="100" velocity="3" lower="-1.5707963267948966" upper="1.5707963267948966"/>
      <origin xyz="0 0 0" rpy="0 0 0"/>
      <parent link="01_lhip_R"/>
      <child link="01_lhip_P"/>
      <axis xyz="0 1 0"/>
    </joint>

    <joint name="01_lhip_Y" type="revolute">
      <limit effort="100" velocity="3" lower="-1.5707963267948966" upper="1.5707963267948966"/>
      <origin xyz="0 0 0" rpy="0 0 0"/>
      <parent link="01_lhip_P"/>
      <child link="01_lhip_Y"/>
      <axis xyz="0 0 1"/>
    </joint>

    <joint name="02_rhip_R" type="revolute">
      <limit effort="100" velocity="3" lower="-1.5707963267948966" upper="1.5707963267948966"/>
      <origin xyz="-0.09031 -0.09051 -0.01354" rpy="0 0 0"/>
      <parent link="00_root_Y"/>
      <child link="02_rhip_R"/>
      <axis xyz="1 0 0"/>
    </joint>

    <joint name="02_rhip_P" type="revolute">
      <limit effort="100" velocity="3" lower="-1.5707963267948966" upper="1.5707963267948966"/>
      <origin xyz="0 0 0" rpy="0 0 0"/>
      <parent link="02_rhip_R"/>
      <child link="02_rhip_P"/>
      <axis xyz="0 1 0"/>
    </joint>

    <joint name="02_rhip_Y" type="revolute">
      <limit effort="100" velocity="3" lower="-1.5707963267948966" upper="1.5707963267948966"/>
      <origin xyz="0 0 0" rpy="0 0 0"/>
      <parent link="02_rhip_P"/>
      <child link="02_rhip_Y"/>
      <axis xyz="0 0 1"/>
    </joint>

    <joint name="03_lowerback_R" type="revolute">
      <limit effort="100" velocity="3" lower="-1.5707963267948966" upper="1.5707963267948966"/>
      <origin xyz="0.0 0.1244 -0.03" rpy="0 0 0"/>
      <parent link="00_root_Y"/>
      <child link="03_lowerback_R"/>
      <axis xyz="1 0 0"/>
    </joint>

    <joint name="03_lowerback_P" type="revolute">
      <limit effort="100" velocity="3" lower="-1.5707963267948966" upper="1.5707963267948966"/>
      <origin xyz="0 0 0" rpy="0 0 0"/>
      <parent link="03_lowerback_R"/>
      <child link="03_lowerback_P"/>
      <axis xyz="0 1 0"/>
    </joint>

    <joint name="03_lowerback_Y" type="revolute">
      <limit effort="100" velocity="3" lower="-1.5707963267948966" upper="1.5707963267948966"/>
      <origin xyz="0 0 0" rpy="0 0 0"/>
      <parent link="03_lowerback_P"/>
      <child link="03_lowerback_Y"/>
      <axis xyz="0 0 1"/>
    </joint>

    <joint name="04_lknee_R" type="revolute">
      <limit effort="100" velocity="3" lower="-1.5707963267948966" upper="1.5707963267948966"/>
      <origin xyz="0.04345 -0.35647 0.00804" rpy="0 0 0"/>
      <parent link="01_lhip_Y"/>
      <child link="04_lknee_R"/>
      <axis xyz="1 0 0"/>
    </joint>

    <joint name="04_lknee_P" type="revolute">
      <limit effort="100" velocity="3" lower="-1.5707963267948966" upper="1.5707963267948966"/>
      <origin xyz="0 0 0" rpy="0 0 0"/>
      <parent link="04_lknee_R"/>
      <child link="04_lknee_P"/>
      <axis xyz="0 1 0"/>
    </joint>

    <joint name="04_lknee_Y" type="revolute">
      <limit effort="100" velocity="3" lower="-1.5707963267948966" upper="1.5707963267948966"/>
      <origin xyz="0 0 0" rpy="0 0 0"/>
      <parent link="04_lknee_P"/>
      <child link="04_lknee_Y"/>
      <axis xyz="0 0 1"/>
    </joint>

    <joint name="05_rknee_R" type="revolute">
      <limit effort="100" velocity="3" lower="-1.5707963267948966" upper="1.5707963267948966"/>
      <origin xyz="-0.04326 -0.35369 -0.00484" rpy="0 0 0"/>
      <parent link="02_rhip_Y"/>
      <child link="05_rknee_R"/>
      <axis xyz="1 0 0"/>
    </joint>

    <joint name="05_rknee_P" type="revolute">
      <limit effort="100" velocity="3" lower="-1.5707963267948966" upper="1.5707963267948966"/>
      <origin xyz="0 0 0" rpy="0 0 0"/>
      <parent link="05_rknee_R"/>
      <child link="05_rknee_P"/>
      <axis xyz="0 1 0"/>
    </joint>

    <joint name="05_rknee_Y" type="revolute">
      <limit effort="100" velocity="3" lower="-1.5707963267948966" upper="1.5707963267948966"/>
      <origin xyz="0 0 0" rpy="0 0 0"/>
      <parent link="05_rknee_P"/>
      <child link="05_rknee_Y"/>
      <axis xyz="0 0 1"/>
    </joint>

    <joint name="06_upperback_R" type="revolute">
      <limit effort="100" velocity="3" lower="-1.5707963267948966" upper="1.5707963267948966"/>
      <origin xyz="0.0 0.13796 0.02682" rpy="0 0 0"/>
      <parent link="03_lowerback_Y"/>
      <child link="06_upperback_R"/>
      <axis xyz="1 0 0"/>
    </joint>

    <joint name="06_upperback_P" type="revolute">
      <limit effort="100" velocity="3" lower="-1.5707963267948966" upper="1.5707963267948966"/>
      <origin xyz="0 0 0" rpy="0 0 0"/>
      <parent link="06_upperback_R"/>
      <child link="06_upperback_P"/>
      <axis xyz="0 1 0"/>
    </joint>

    <joint name="06_upperback_Y" type="revolute">
      <limit effort="100" velocity="3" lower="-1.5707963267948966" upper="1.5707963267948966"/>
      <origin xyz="0 0 0" rpy="0 0 0"/>
      <parent link="06_upperback_P"/>
      <child link="06_upperback_Y"/>
      <axis xyz="0 0 1"/>
    </joint>

    <joint name="07_lankle_R" type="revolute">
      <limit effort="100" velocity="3" lower="-1.5707963267948966" upper="1.5707963267948966"/>
      <origin xyz="-0.01479 -0.42687 -0.03743" rpy="0 0 0"/>
      <parent link="04_lknee_Y"/>
      <child link="07_lankle_R"/>
      <axis xyz="1 0 0"/>
    </joint>

    <joint name="07_lankle_P" type="revolute">
      <limit effort="100" velocity="3" lower="-1.5707963267948966" upper="1.5707963267948966"/>
      <origin xyz="0 0 0" rpy="0 0 0"/>
      <parent link="07_lankle_R"/>
      <child link="07_lankle_P"/>
      <axis xyz="0 1 0"/>
    </joint>

    <joint name="07_lankle_Y" type="revolute">
      <limit effort="100" velocity="3" lower="-1.5707963267948966" upper="1.5707963267948966"/>
      <origin xyz="0 0 0" rpy="0 0 0"/>
      <parent link="07_lankle_P"/>
      <child link="07_lankle_Y"/>
      <axis xyz="0 0 1"/>
    </joint>

    <joint name="08_rankle_R" type="revolute">
      <limit effort="100" velocity="3" lower="-1.5707963267948966" upper="1.5707963267948966"/>
      <origin xyz="0.01906 -0.42005 -0.03456" rpy="0 0 0"/>
      <parent link="05_rknee_Y"/>
      <child link="08_rankle_R"/>
      <axis xyz="1 0 0"/>
    </joint>

    <joint name="08_rankle_P" type="revolute">
      <limit effort="100" velocity="3" lower="-1.5707963267948966" upper="1.5707963267948966"/>
      <origin xyz="0 0 0" rpy="0 0 0"/>
      <parent link="08_rankle_R"/>
      <child link="08_rankle_P"/>
      <axis xyz="0 1 0"/>
    </joint>

    <joint name="08_rankle_Y" type="revolute">
      <limit effort="100" velocity="3" lower="-1.5707963267948966" upper="1.5707963267948966"/>
      <origin xyz="0 0 0" rpy="0 0 0"/>
      <parent link="08_rankle_P"/>
      <child link="08_rankle_Y"/>
      <axis xyz="0 0 1"/>
    </joint>

    <joint name="09_chest_R" type="revolute">
      <limit effort="100" velocity="3" lower="-1.5707963267948966" upper="1.5707963267948966"/>
      <origin xyz="0.0 0.05603 0.00285" rpy="0 0 0"/>
      <parent link="06_upperback_Y"/>
      <child link="09_chest_R"/>
      <axis xyz="1 0 0"/>
    </joint>

    <joint name="09_chest_P" type="revolute">
      <limit effort="100" velocity="3" lower="-1.5707963267948966" upper="1.5707963267948966"/>
      <origin xyz="0 0 0" rpy="0 0 0"/>
      <parent link="09_chest_R"/>
      <child link="09_chest_P"/>
      <axis xyz="0 1 0"/>
    </joint>

    <joint name="09_chest_Y" type="revolute">
      <limit effort="100" velocity="3" lower="-1.5707963267948966" upper="1.5707963267948966"/>
      <origin xyz="0 0 0" rpy="0 0 0"/>
      <parent link="09_chest_P"/>
      <child link="09_chest_Y"/>
      <axis xyz="0 0 1"/>
    </joint>

    <joint name="10_lfoot_R" type="revolute">
      <limit effort="100" velocity="3" lower="-1.5707963267948966" upper="1.5707963267948966"/>
      <origin xyz="-0.00737 -0.0627 0.12571" rpy="0 0 0"/>
      <parent link="07_lankle_Y"/>
      <child link="10_lfoot_R"/>
      <axis xyz="1 0 0"/>
    </joint>

    <joint name="10_lfoot_P" type="revolute">
      <limit effort="100" velocity="3" lower="-1.5707963267948966" upper="1.5707963267948966"/>
      <origin xyz="0 0 0" rpy="0 0 0"/>
      <parent link="10_lfoot_R"/>
      <child link="10_lfoot_P"/>
      <axis xyz="0 1 0"/>
    </joint>

    <joint name="10_lfoot_Y" type="revolute">
      <limit effort="100" velocity="3" lower="-1.5707963267948966" upper="1.5707963267948966"/>
      <origin xyz="0 0 0" rpy="0 0 0"/>
      <parent link="10_lfoot_P"/>
      <child link="10_lfoot_Y"/>
      <axis xyz="0 0 1"/>
    </joint>

    <joint name="11_rfoot_R" type="revolute">
      <limit effort="100" velocity="3" lower="-1.5707963267948966" upper="1.5707963267948966"/>
      <origin xyz="-0.00603 -0.05679 0.12911" rpy="0 0 0"/>
      <parent link="08_rankle_Y"/>
      <child link="11_rfoot_R"/>
      <axis xyz="1 0 0"/>
    </joint>

    <joint name="11_rfoot_P" type="revolute">
      <limit effort="100" velocity="3" lower="-1.5707963267948966" upper="1.5707963267948966"/>
      <origin xyz="0 0 0" rpy="0 0 0"/>
      <parent link="11_rfoot_R"/>
      <child link="11_rfoot_P"/>
      <axis xyz="0 1 0"/>
    </joint>

    <joint name="11_rfoot_Y" type="revolute">
      <limit effort="100" velocity="3" lower="-1.5707963267948966" upper="1.5707963267948966"/>
      <origin xyz="0 0 0" rpy="0 0 0"/>
      <parent link="11_rfoot_P"/>
      <child link="11_rfoot_Y"/>
      <axis xyz="0 0 1"/>
    </joint>

    <joint name="12_lowerneck_R" type="revolute">
      <limit effort="100" velocity="3" lower="-1.5707963267948966" upper="1.5707963267948966"/>
      <origin xyz="0.0 0.15524 -0.03347" rpy="0 0 0"/>
      <parent link="09_chest_Y"/>
      <child link="12_lowerneck_R"/>
      <axis xyz="1 0 0"/>
    </joint>

    <joint name="12_lowerneck_P" type="revolute">
      <limit effort="100" velocity="3" lower="-1.5707963267948966" upper="1.5707963267948966"/>
      <origin xyz="0 0 0" rpy="0 0 0"/>
      <parent link="12_lowerneck_R"/>
      <child link="12_lowerneck_P"/>
      <axis xyz="0 1 0"/>
    </joint>

    <joint name="12_lowerneck_Y" type="revolute">
      <limit effort="100" velocity="3" lower="-1.5707963267948966" upper="1.5707963267948966"/>
      <origin xyz="0 0 0" rpy="0 0 0"/>
      <parent link="12_lowerneck_P"/>
      <child link="12_lowerneck_Y"/>
      <axis xyz="0 0 1"/>
    </joint>

    <joint name="13_lclavicle_R" type="revolute">
      <limit effort="100" velocity="3" lower="-1.5707963267948966" upper="1.5707963267948966"/>
      <origin xyz="0.0717 0.114 -0.0189" rpy="0 0 0"/>
      <parent link="09_chest_Y"/>
      <child link="13_lclavicle_R"/>
      <axis xyz="1 0 0"/>
    </joint>

    <joint name="13_lclavicle_P" type="revolute">
      <limit effort="100" velocity="3" lower="-1.5707963267948966" upper="1.5707963267948966"/>
      <origin xyz="0 0 0" rpy="0 0 0"/>
      <parent link="13_lclavicle_R"/>
      <child link="13_lclavicle_P"/>
      <axis xyz="0 1 0"/>
    </joint>

    <joint name="13_lclavicle_Y" type="revolute">
      <limit effort="100" velocity="3" lower="-1.5707963267948966" upper="1.5707963267948966"/>
      <origin xyz="0 0 0" rpy="0 0 0"/>
      <parent link="13_lclavicle_P"/>
      <child link="13_lclavicle_Y"/>
      <axis xyz="0 0 1"/>
    </joint>

    <joint name="14_rclavicle_R" type="revolute">
      <limit effort="100" velocity="3" lower="-1.5707963267948966" upper="1.5707963267948966"/>
      <origin xyz="-0.08295 0.11247 -0.02371" rpy="0 0 0"/>
      <parent link="09_chest_Y"/>
      <child link="14_rclavicle_R"/>
      <axis xyz="1 0 0"/>
    </joint>

    <joint name="14_rclavicle_P" type="revolute">
      <limit effort="100" velocity="3" lower="-1.5707963267948966" upper="1.5707963267948966"/>
      <origin xyz="0 0 0" rpy="0 0 0"/>
      <parent link="14_rclavicle_R"/>
      <child link="14_rclavicle_P"/>
      <axis xyz="0 1 0"/>
    </joint>

    <joint name="14_rclavicle_Y" type="revolute">
      <limit effort="100" velocity="3" lower="-1.5707963267948966" upper="1.5707963267948966"/>
      <origin xyz="0 0 0" rpy="0 0 0"/>
      <parent link="14_rclavicle_P"/>
      <child link="14_rclavicle_Y"/>
      <axis xyz="0 0 1"/>
    </joint>

    <joint name="15_upperneck_R" type="revolute">
      <limit effort="100" velocity="3" lower="-1.5707963267948966" upper="1.5707963267948966"/>
      <origin xyz="0.0 0.08894 0.02041" rpy="0 0 0"/>
      <parent link="12_lowerneck_Y"/>
      <child link="15_upperneck_R"/>
      <axis xyz="1 0 0"/>
    </joint>

    <joint name="15_upperneck_P" type="revolute">
      <limit effort="100" velocity="3" lower="-1.5707963267948966" upper="1.5707963267948966"/>
      <origin xyz="0 0 0" rpy="0 0 0"/>
      <parent link="15_upperneck_R"/>
      <child link="15_upperneck_P"/>
      <axis xyz="0 1 0"/>
    </joint>

    <joint name="15_upperneck_Y" type="revolute">
      <limit effort="100" velocity="3" lower="-1.5707963267948966" upper="1.5707963267948966"/>
      <origin xyz="0 0 0" rpy="0 0 0"/>
      <parent link="15_upperneck_P"/>
      <child link="15_upperneck_Y"/>
      <axis xyz="0 0 1"/>
    </joint>

    <joint name="16_lshoulder_R" type="revolute">
      <limit effort="100" velocity="3" lower="-1.5707963267948966" upper="1.5707963267948966"/>
      <origin xyz="0.12292 0.04521 -0.01905" rpy="0 0 0"/>
      <parent link="13_lclavicle_Y"/>
      <child link="16_lshoulder_R"/>
      <axis xyz="1 0 0"/>
    </joint>

    <joint name="16_lshoulder_P" type="revolute">
      <limit effort="100" velocity="3" lower="-1.5707963267948966" upper="1.5707963267948966"/>
      <origin xyz="0 0 0" rpy="0 0 0"/>
      <parent link="16_lshoulder_R"/>
      <child link="16_lshoulder_P"/>
      <axis xyz="0 1 0"/>
    </joint>

    <joint name="16_lshoulder_Y" type="revolute">
      <limit effort="100" velocity="3" lower="-1.5707963267948966" upper="1.5707963267948966"/>
      <origin xyz="0 0 0" rpy="0 0 0"/>
      <parent link="16_lshoulder_P"/>
      <child link="16_lshoulder_Y"/>
      <axis xyz="0 0 1"/>
    </joint>

    <joint name="17_rshoulder_R" type="revolute">
      <limit effort="100" velocity="3" lower="-1.5707963267948966" upper="1.5707963267948966"/>
      <origin xyz="-0.11323 0.04685 -0.00847" rpy="0 0 0"/>
      <parent link="14_rclavicle_Y"/>
      <child link="17_rshoulder_R"/>
      <axis xyz="1 0 0"/>
    </joint>

    <joint name="17_rshoulder_P" type="revolute">
      <limit effort="100" velocity="3" lower="-1.5707963267948966" upper="1.5707963267948966"/>
      <origin xyz="0 0 0" rpy="0 0 0"/>
      <parent link="17_rshoulder_R"/>
      <child link="17_rshoulder_P"/>
      <axis xyz="0 1 0"/>
    </joint>

    <joint name="17_rshoulder_Y" type="revolute">
      <limit effort="100" velocity="3" lower="-1.5707963267948966" upper="1.5707963267948966"/>
      <origin xyz="0 0 0" rpy="0 0 0"/>
      <parent link="17_rshoulder_P"/>
      <child link="17_rshoulder_Y"/>
      <axis xyz="0 0 1"/>
    </joint>

    <joint name="18_lelbow_R" type="revolute">
      <limit effort="100" velocity="3" lower="-1.5707963267948966" upper="1.5707963267948966"/>
      <origin xyz="0.25533 -0.01565 -0.02295" rpy="0 0 0"/>
      <parent link="16_lshoulder_Y"/>
      <child link="18_lelbow_R"/>
      <axis xyz="1 0 0"/>
    </joint>

    <joint name="18_lelbow_P" type="revolute">
      <limit effort="100" velocity="3" lower="-1.5707963267948966" upper="1.5707963267948966"/>
      <origin xyz="0 0 0" rpy="0 0 0"/>
      <parent link="18_lelbow_R"/>
      <child link="18_lelbow_P"/>
      <axis xyz="0 1 0"/>
    </joint>

    <joint name="18_lelbow_Y" type="revolute">
      <limit effort="100" velocity="3" lower="-1.5707963267948966" upper="1.5707963267948966"/>
      <origin xyz="0 0 0" rpy="0 0 0"/>
      <parent link="18_lelbow_P"/>
      <child link="18_lelbow_Y"/>
      <axis xyz="0 0 1"/>
    </joint>

    <joint name="19_relbow_R" type="revolute">
      <limit effort="100" velocity="3" lower="-1.5707963267948966" upper="1.5707963267948966"/>
      <origin xyz="-0.26013 -0.01437 -0.03127" rpy="0 0 0"/>
      <parent link="17_rshoulder_Y"/>
      <child link="19_relbow_R"/>
      <axis xyz="1 0 0"/>
    </joint>

    <joint name="19_relbow_P" type="revolute">
      <limit effort="100" velocity="3" lower="-1.5707963267948966" upper="1.5707963267948966"/>
      <origin xyz="0 0 0" rpy="0 0 0"/>
      <parent link="19_relbow_R"/>
      <child link="19_relbow_P"/>
      <axis xyz="0 1 0"/>
    </joint>

    <joint name="19_relbow_Y" type="revolute">
      <limit effort="100" velocity="3" lower="-1.5707963267948966" upper="1.5707963267948966"/>
      <origin xyz="0 0 0" rpy="0 0 0"/>
      <parent link="19_relbow_P"/>
      <child link="19_relbow_Y"/>
      <axis xyz="0 0 1"/>
    </joint>

    <joint name="20_lwrist_R" type="revolute">
      <limit effort="100" velocity="3" lower="-1.5707963267948966" upper="1.5707963267948966"/>
      <origin xyz="0.24571 0.0127 -0.00737" rpy="0 0 0"/>
      <parent link="18_lelbow_Y"/>
      <child link="20_lwrist_R"/>
      <axis xyz="1 0 0"/>
    </joint>

    <joint name="20_lwrist_P" type="revolute">
      <limit effort="100" velocity="3" lower="-1.5707963267948966" upper="1.5707963267948966"/>
      <origin xyz="0 0 0" rpy="0 0 0"/>
      <parent link="20_lwrist_R"/>
      <child link="20_lwrist_P"/>
      <axis xyz="0 1 0"/>
    </joint>

    <joint name="20_lwrist_Y" type="revolute">
      <limit effort="100" velocity="3" lower="-1.5707963267948966" upper="1.5707963267948966"/>
      <origin xyz="0 0 0" rpy="0 0 0"/>
      <parent link="20_lwrist_P"/>
      <child link="20_lwrist_Y"/>
      <axis xyz="0 0 1"/>
    </joint>

    <joint name="21_rwrist_R" type="revolute">
      <limit effort="100" velocity="3" lower="-1.5707963267948966" upper="1.5707963267948966"/>
      <origin xyz="-0.24911 0.00679 -0.00603" rpy="0 0 0"/>
      <parent link="19_relbow_Y"/>
      <child link="21_rwrist_R"/>
      <axis xyz="1 0 0"/>
    </joint>

    <joint name="21_rwrist_P" type="revolute">
      <limit effort="100" velocity="3" lower="-1.5707963267948966" upper="1.5707963267948966"/>
      <origin xyz="0 0 0" rpy="0 0 0"/>
      <parent link="21_rwrist_R"/>
      <child link="21_rwrist_P"/>
      <axis xyz="0 1 0"/>
    </joint>

    <joint name="21_rwrist_Y" type="revolute">
      <limit effort="100" velocity="3" lower="-1.5707963267948966" upper="1.5707963267948966"/>
      <origin xyz="0 0 0" rpy="0 0 0"/>
      <parent link="21_rwrist_P"/>
      <child link="21_rwrist_Y"/>
      <axis xyz="0 0 1"/>
    </joint>

    <joint name="22_lthumb_R" type="revolute">
      <limit effort="100" velocity="3" lower="-1.5707963267948966" upper="1.5707963267948966"/>
      <origin xyz="0.04571 0.0127 -0.00737" rpy="0 0 0"/>
      <parent link="20_lwrist_Y"/>
      <child link="22_lthumb_R"/>
      <axis xyz="1 0 0"/>
    </joint>

    <joint name="22_lthumb_P" type="revolute">
      <limit effort="100" velocity="3" lower="-1.5707963267948966" upper="1.5707963267948966"/>
      <origin xyz="0 0 0" rpy="0 0 0"/>
      <parent link="22_lthumb_R"/>
      <child link="22_lthumb_P"/>
      <axis xyz="0 1 0"/>
    </joint>

    <joint name="22_lthumb_Y" type="revolute">
      <limit effort="100" velocity="3" lower="-1.5707963267948966" upper="1.5707963267948966"/>
      <origin xyz="0 0 0" rpy="0 0 0"/>
      <parent link="22_lthumb_P"/>
      <child link="22_lthumb_Y"/>
      <axis xyz="0 0 1"/>
    </joint>

    <joint name="23_rthumb_R" type="revolute">
      <limit effort="100" velocity="3" lower="-1.5707963267948966" upper="1.5707963267948966"/>
      <origin xyz="-0.04911 0.00679 -0.00603" rpy="0 0 0"/>
      <parent link="21_rwrist_Y"/>
      <child link="23_rthumb_R"/>
      <axis xyz="1 0 0"/>
    </joint>

    <joint name="23_rthumb_P" type="revolute">
      <limit effort="100" velocity="3" lower="-1.5707963267948966" upper="1.5707963267948966"/>
      <origin xyz="0 0 0" rpy="0 0 0"/>
      <parent link="23_rthumb_R"/>
      <child link="23_rthumb_P"/>
      <axis xyz="0 1 0"/>
    </joint>

    <joint name="23_rthumb_Y" type="revolute">
      <limit effort="100" velocity="3" lower="-1.5707963267948966" upper="1.5707963267948966"/>
      <origin xyz="0 0 0" rpy="0 0 0"/>
      <parent link="23_rthumb_P"/>
      <child link="23_rthumb_Y"/>
      <axis xyz="0 0 1"/>
    </joint>
  </robot>
